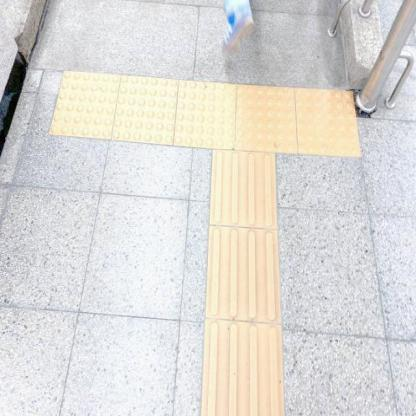podotacti: (56, 78, 366, 153), (202, 156, 278, 413)
